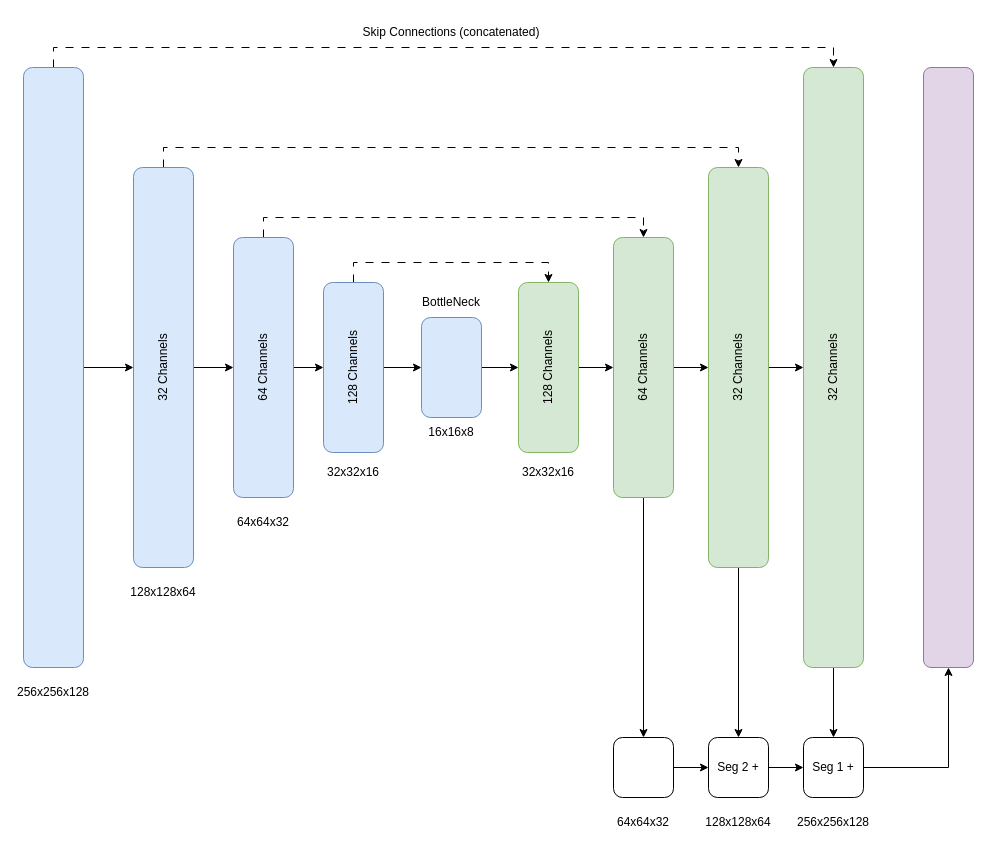
Image size: 991x854. Some labels were removed from this diagram. Each missing label, with the box of its shape:
16 Channels: (22, 66, 84, 668)
256 Channels: (420, 316, 482, 418)
Deep Supervision: (922, 66, 974, 668)
Seg 3: (612, 736, 674, 798)
